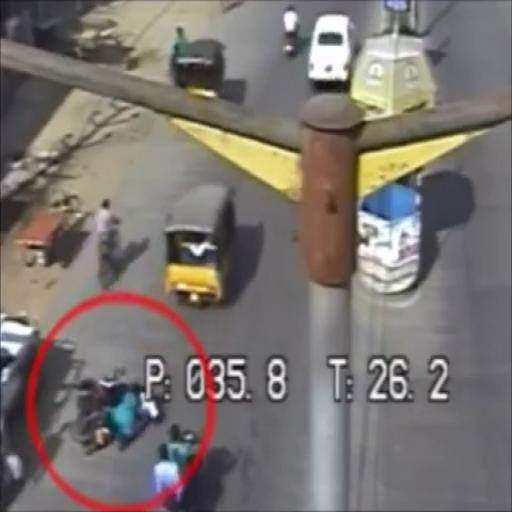小汽车: (308, 10, 354, 82)
自行车: (162, 178, 237, 306), (75, 367, 167, 454), (96, 195, 124, 285), (281, 5, 305, 59)
